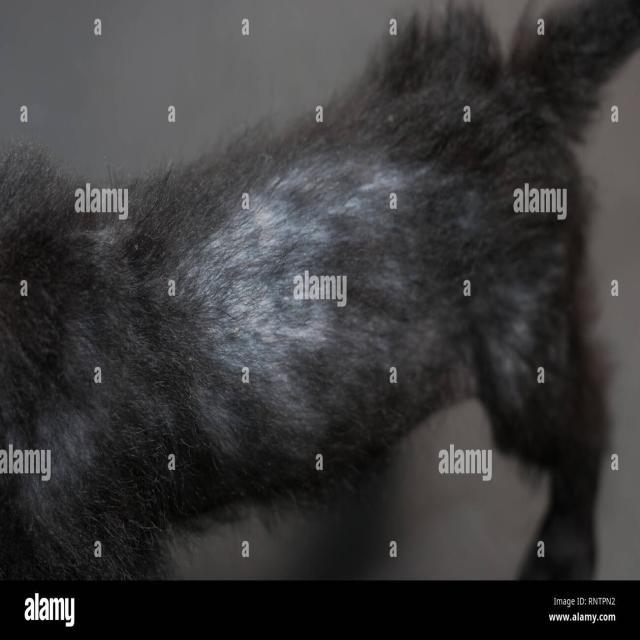mange: (143, 135, 475, 452)
